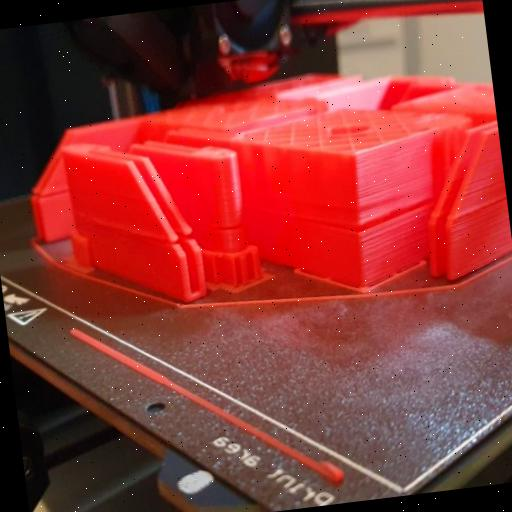cracks: (300, 194, 428, 251), (118, 211, 229, 265), (18, 174, 72, 211)
